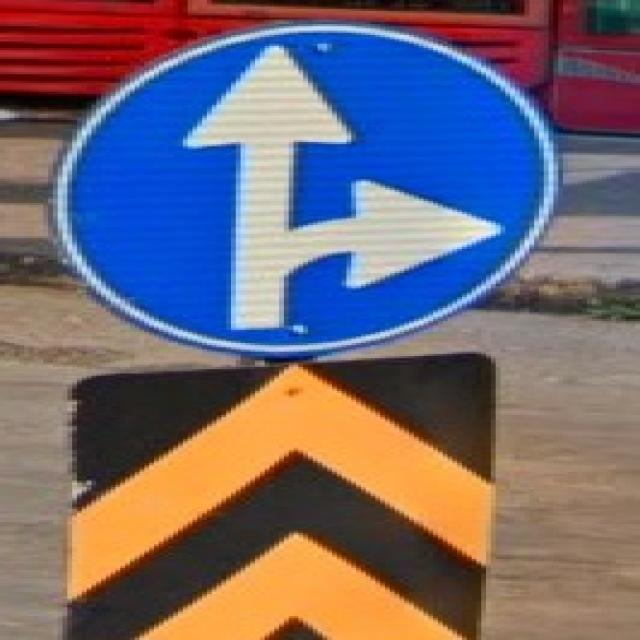Straight or Right: (74, 32, 555, 344)
